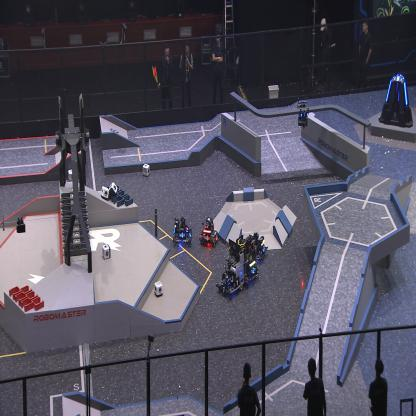car: (215, 239, 245, 298), (235, 235, 260, 285), (172, 216, 192, 247), (199, 218, 219, 248), (248, 232, 268, 258)
